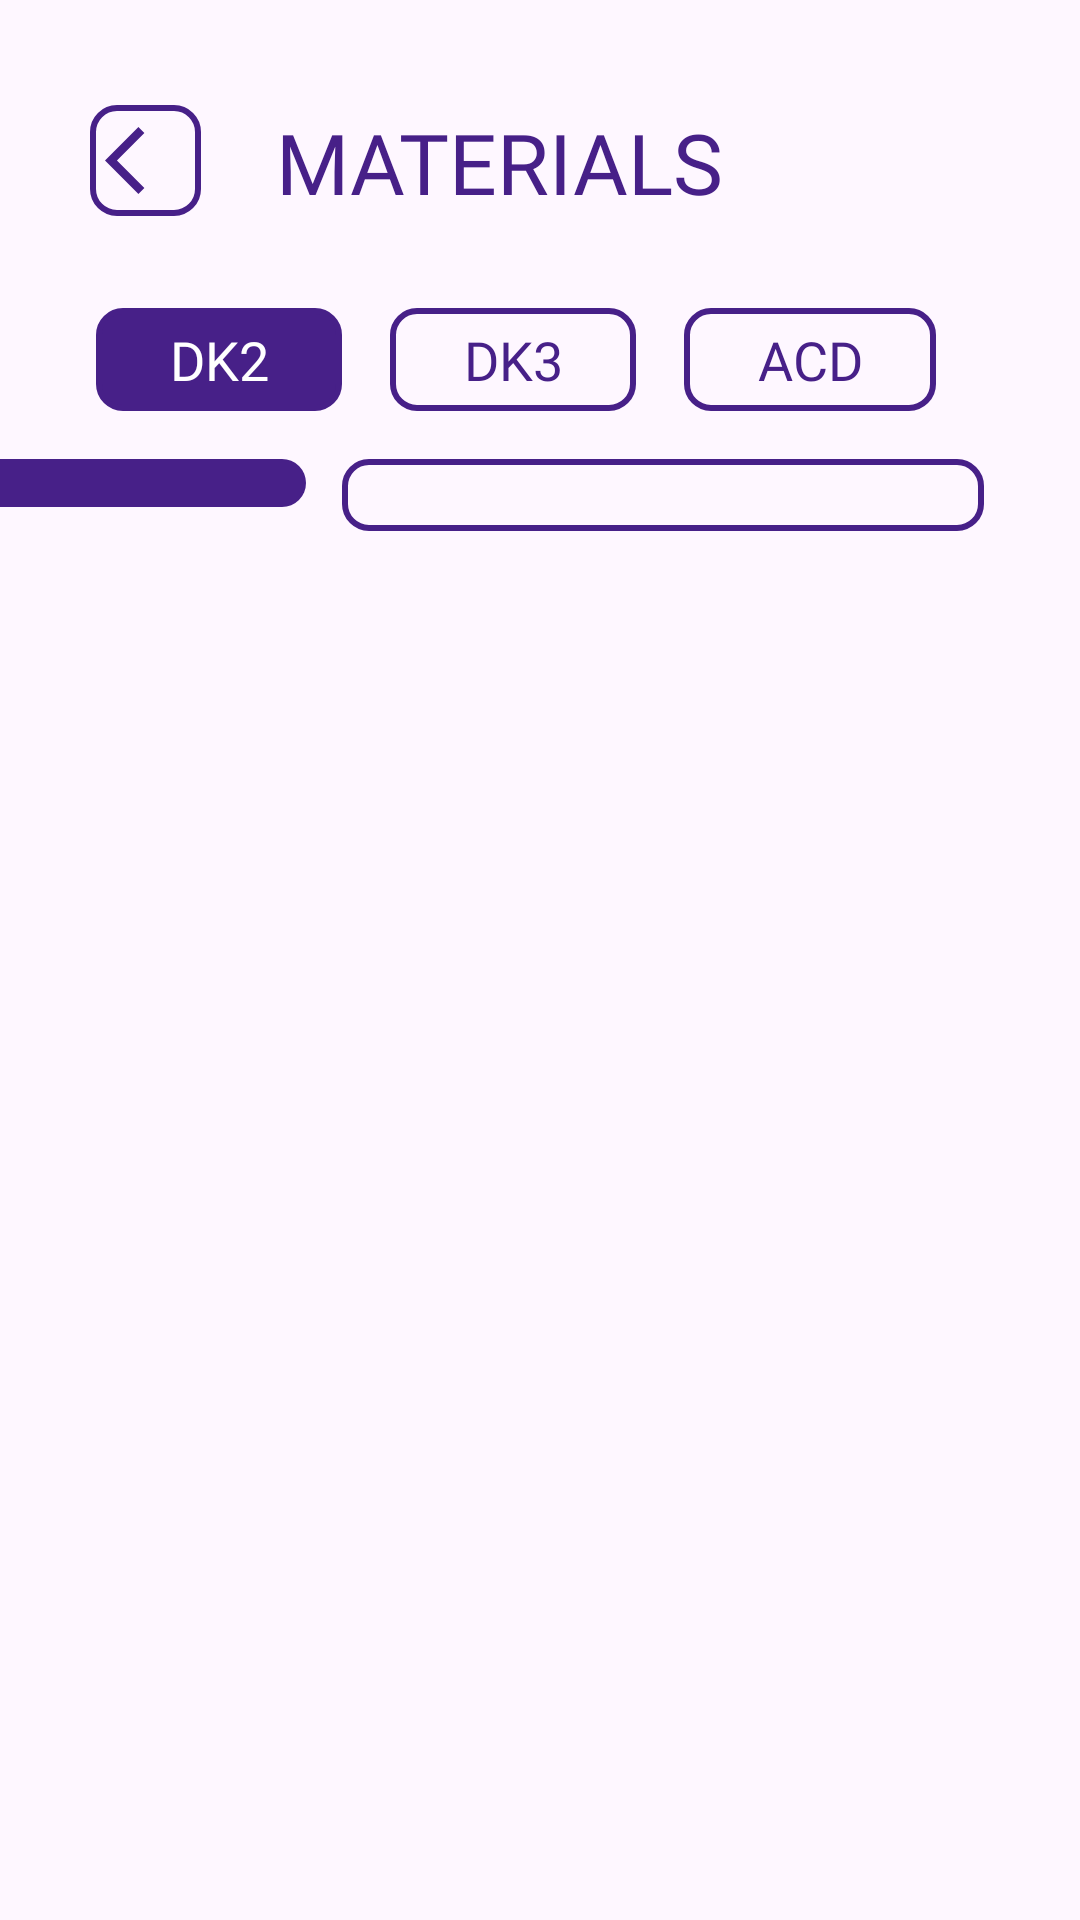

Where to tap for icons on this 1080×1920 app screen, as [x,y]:
back: [145,160]
